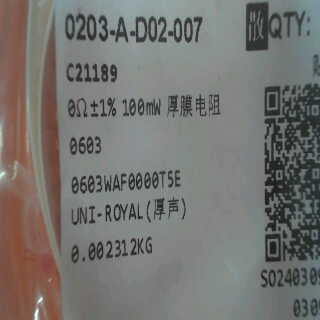0R: (65, 93, 121, 162)
